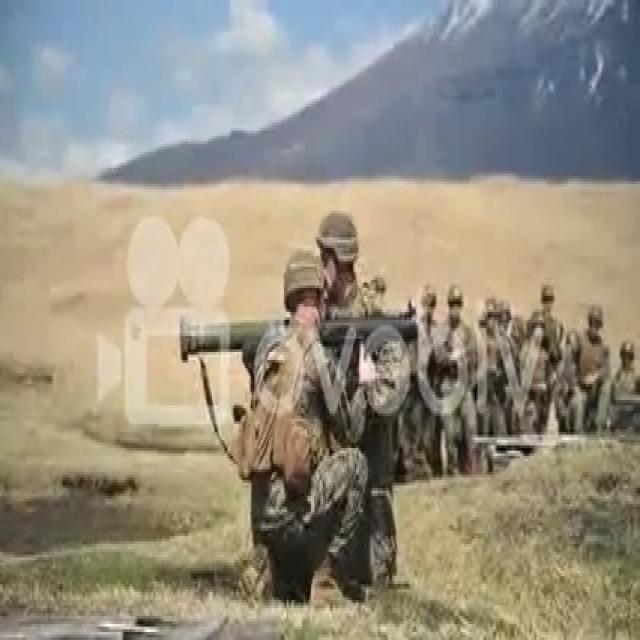rocket: (178, 305, 418, 359)
